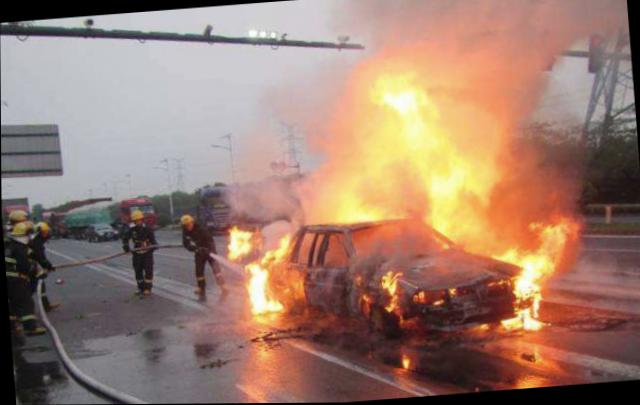fire: (203, 54, 577, 364)
